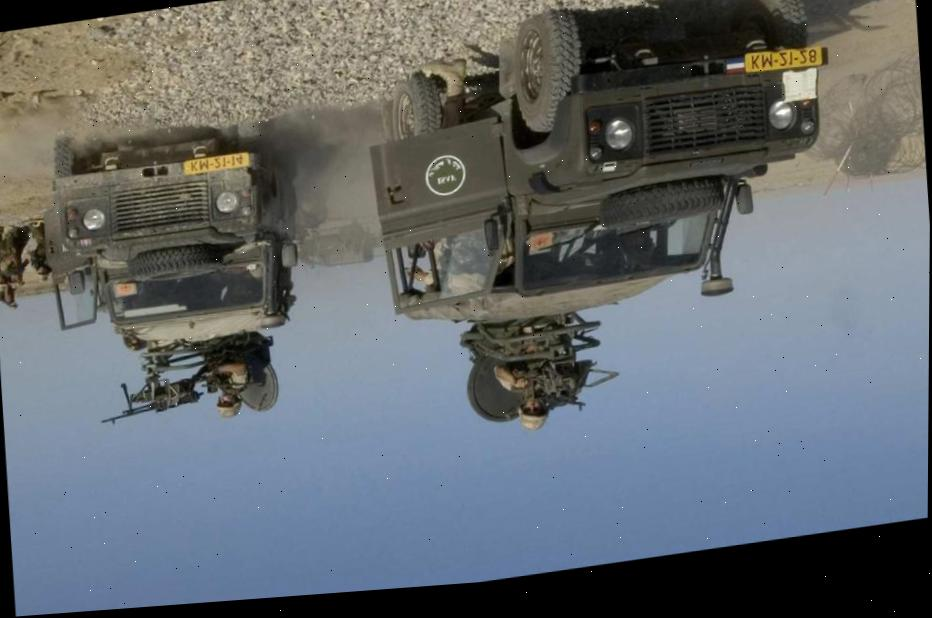armored_car: (360, 0, 851, 440), (35, 100, 310, 442)
person: (0, 222, 30, 290), (26, 219, 52, 282), (0, 280, 20, 312)
